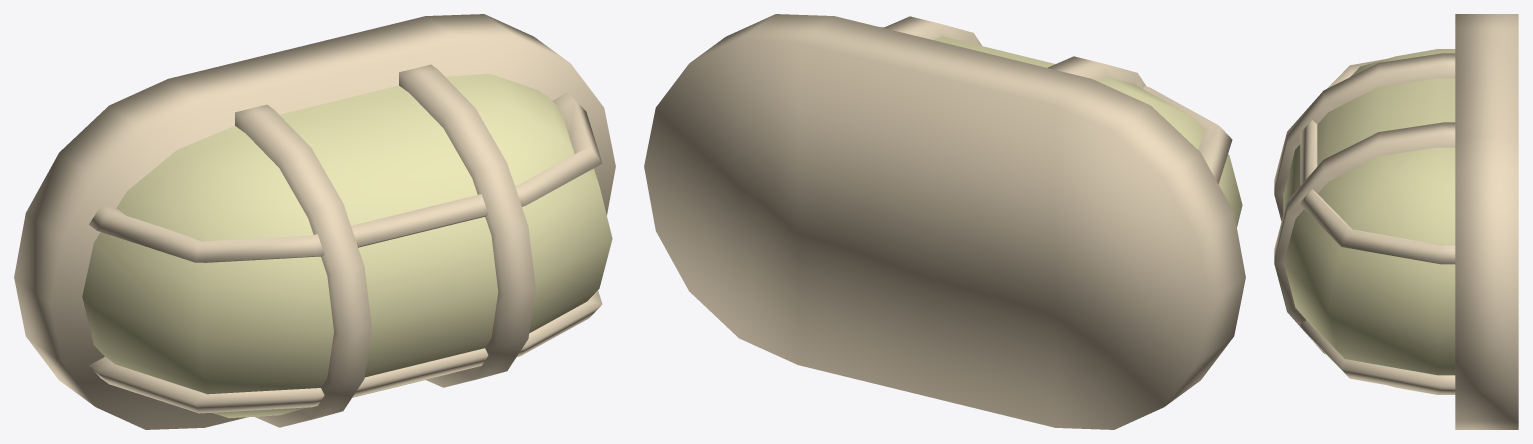
File: Lamp 03.glb
3 views of the same model, side by side, from view 1: azimuth 30°, elevation 25°; view 2: azimuth 150°, elevation 25°; view 3: azimuth 270°, elevation 25° (orthographic). The views are drawn at different scales.
Visible parts, largest first — view 1: Lamp_03; view 2: Lamp_03; view 3: Lamp_03.
Boxes of the visible parts, box(x1,y1,x2,y2) form: Lamp_03: box(14, 14, 615, 429); Lamp_03: box(644, 14, 1245, 429); Lamp_03: box(1274, 14, 1518, 429).
Size of the model in its own units: 0.1729 by 0.0941 by 0.0749.
